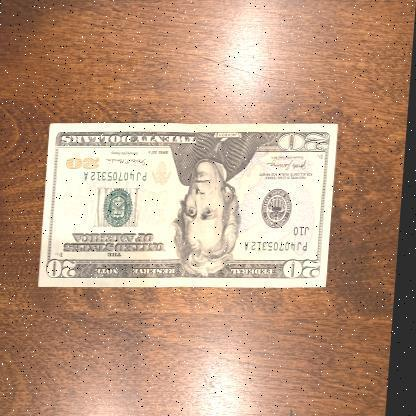twenty-front: (40, 121, 341, 290)
